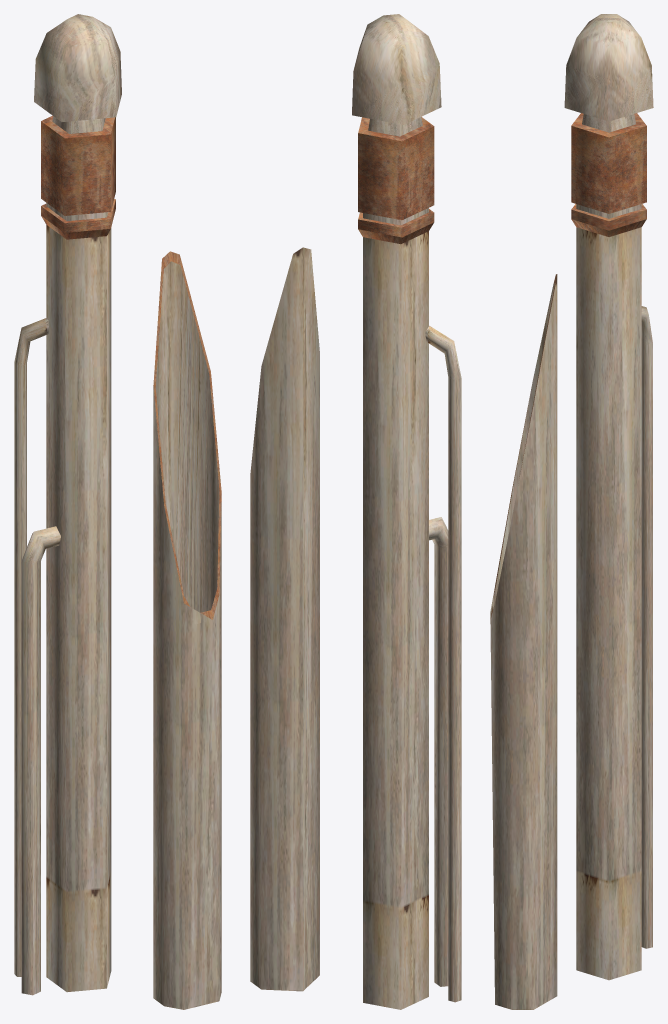
File: thm_tato_debris_s02_l1.fbx
3 views of the same model, side by side, from view 1: azimuth 30°, elevation 25°; view 2: azimuth 210°, elevation 25°; view 3: azimuth 270°, elevation 25° (orthographic). The views are drawn at different scales.
Visible parts, largest first — view 1: mesh_node; view 2: mesh_node; view 3: mesh_node.
Part boxes in pixels (left/top/right/bottom): mesh_node: left=14, top=14, right=221, bottom=1009; mesh_node: left=250, top=14, right=461, bottom=1009; mesh_node: left=490, top=14, right=653, bottom=1009.
Bounding box in the file's own units: 0.6941 × 4.21 × 0.6571.
Materials: 2 (2 with a texture image).
